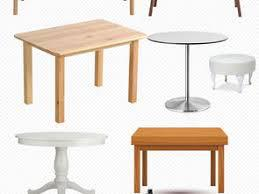desk: (9, 20, 254, 125)
